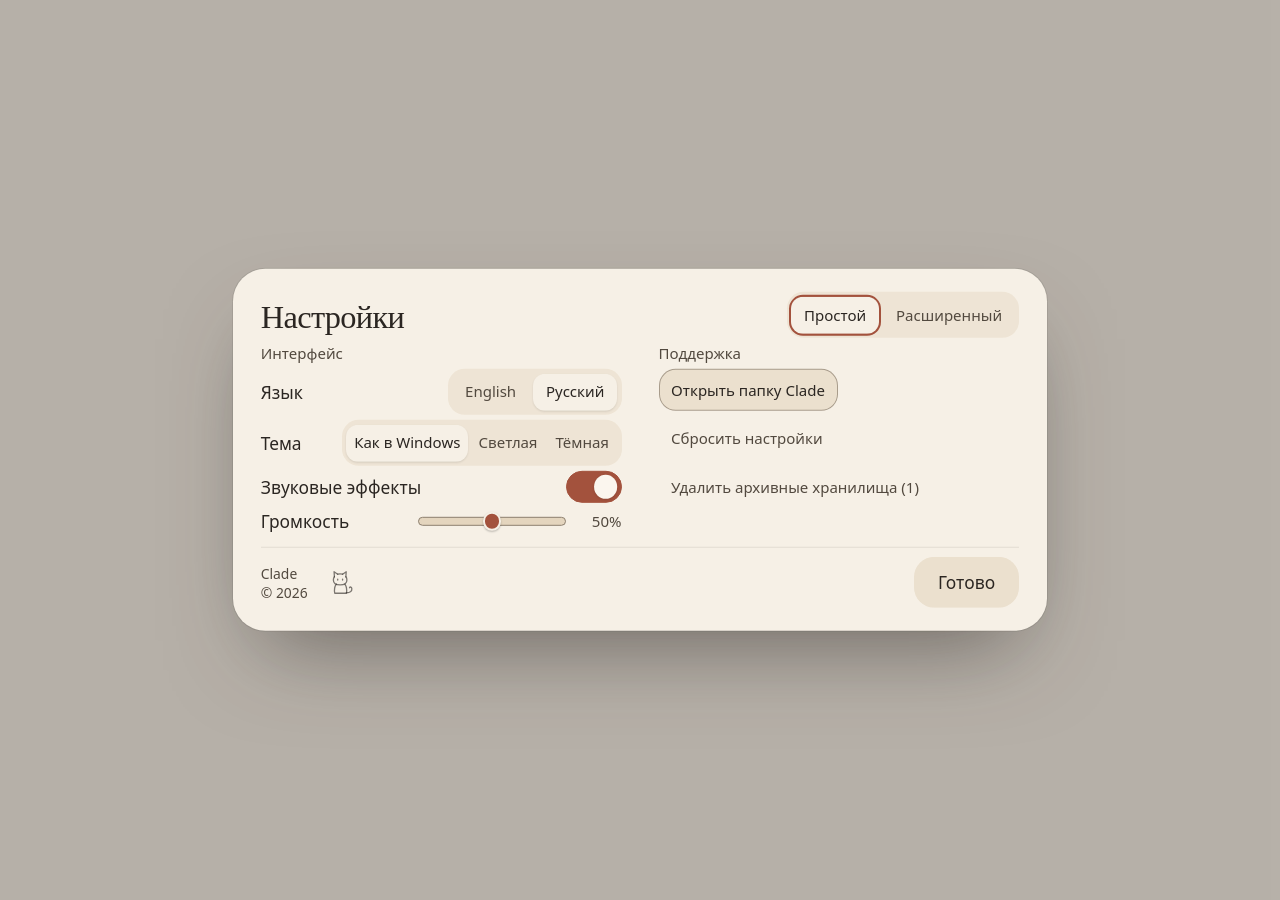
Scenario: Clearing archived vaults in Settings › is worded in Russian
Click the button "Удалить архивные хранилища (1)".
click(795, 487)  # box [658,466,932,508]
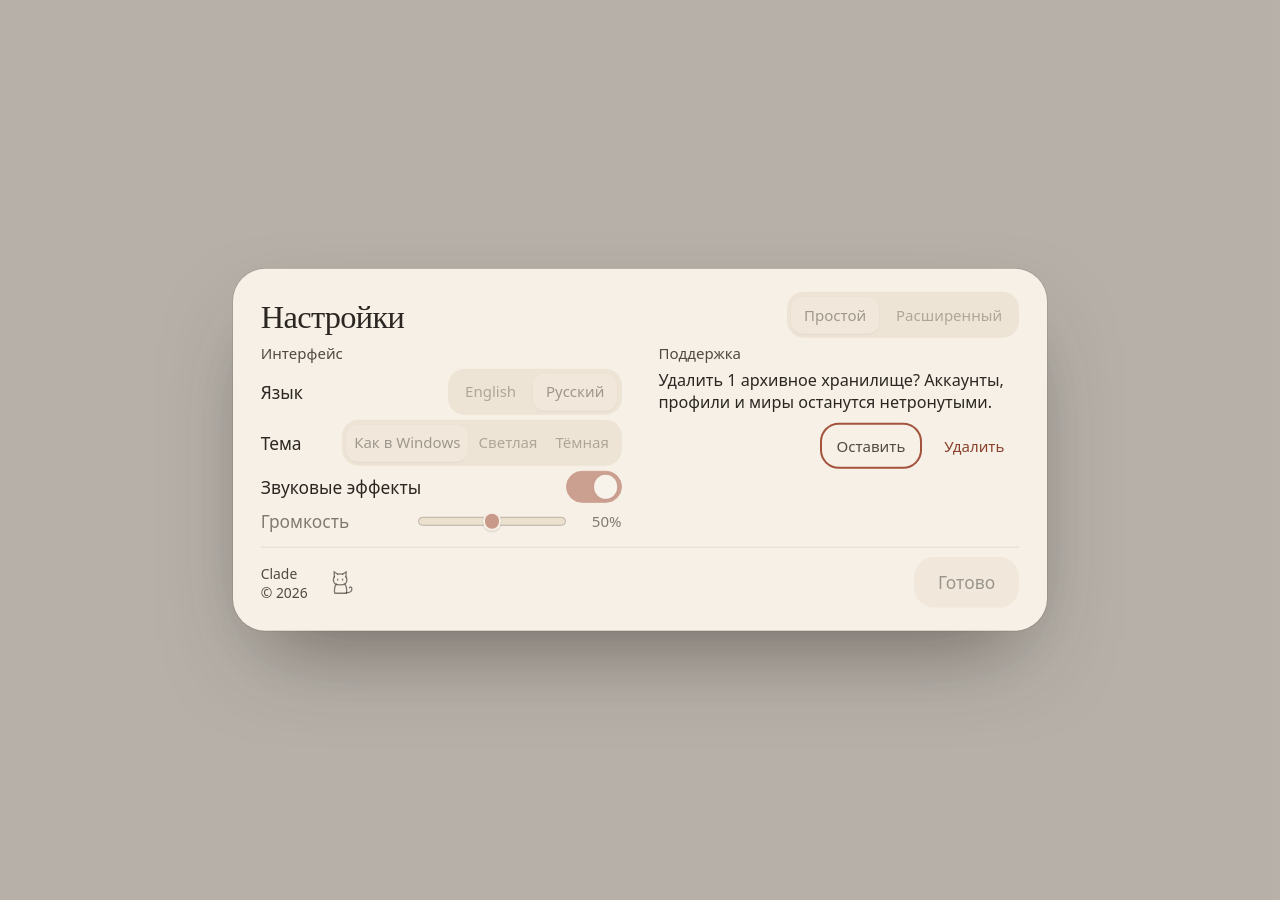
Check: the message shows "Удалить 1 архивное хранилище?", box [658,369,1004,413]
Click the button "Удалить".
click(974, 446)  # box [930,425,1019,467]
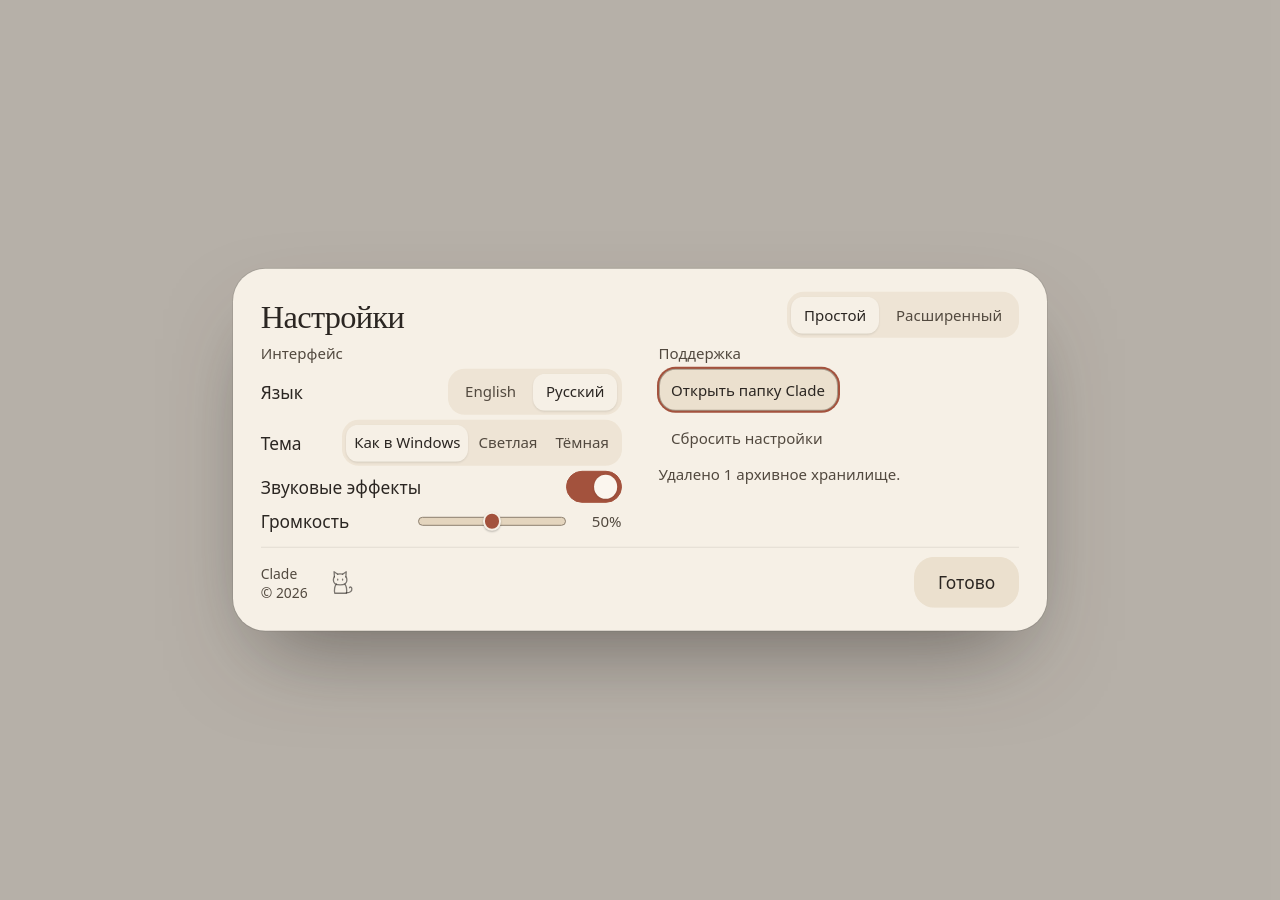
Check: the message reads "Удалено 1 архивное хранилище.", box [658,464,900,484]
